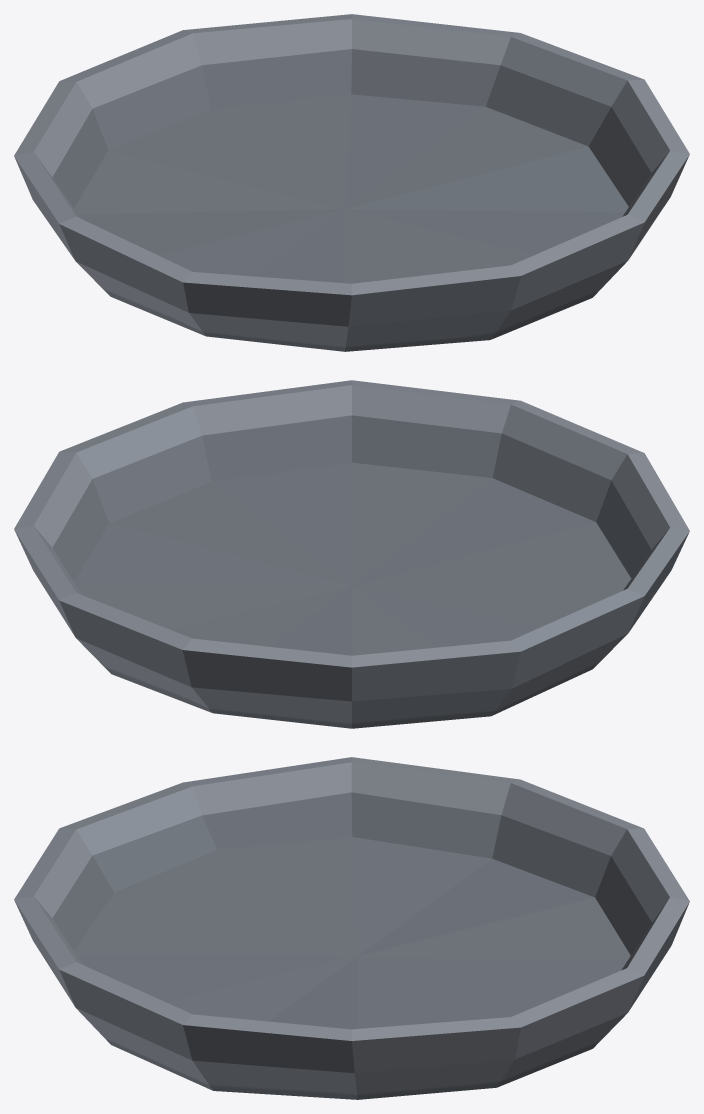
File: SM_Prop_Plate_Large_03.fbx
3 renders of one model, top to bottom at view 1: azimuth 30°, elevation 25°; view 2: azimuth 150°, elevation 25°; view 3: azimuth 270°, elevation 25°, orthographic.
Parts seen in each view (by area): view 1: SM_Prop_Plate_Large_03; view 2: SM_Prop_Plate_Large_03; view 3: SM_Prop_Plate_Large_03.
Part boxes in pixels (box(x1,y1,x2,y2)): SM_Prop_Plate_Large_03: box(14, 14, 689, 351); SM_Prop_Plate_Large_03: box(14, 380, 689, 728); SM_Prop_Plate_Large_03: box(14, 757, 689, 1099).
Size of the model in its own units: 130 by 20.25 by 130.
